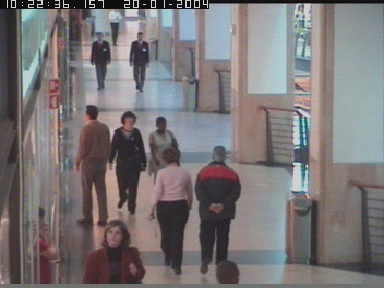person: (196, 144, 240, 279), (147, 149, 192, 275), (81, 219, 147, 284), (75, 106, 109, 226), (108, 110, 144, 214), (145, 116, 179, 189), (39, 206, 57, 284), (91, 31, 110, 91), (129, 32, 148, 91), (215, 260, 240, 284), (107, 9, 123, 45)
